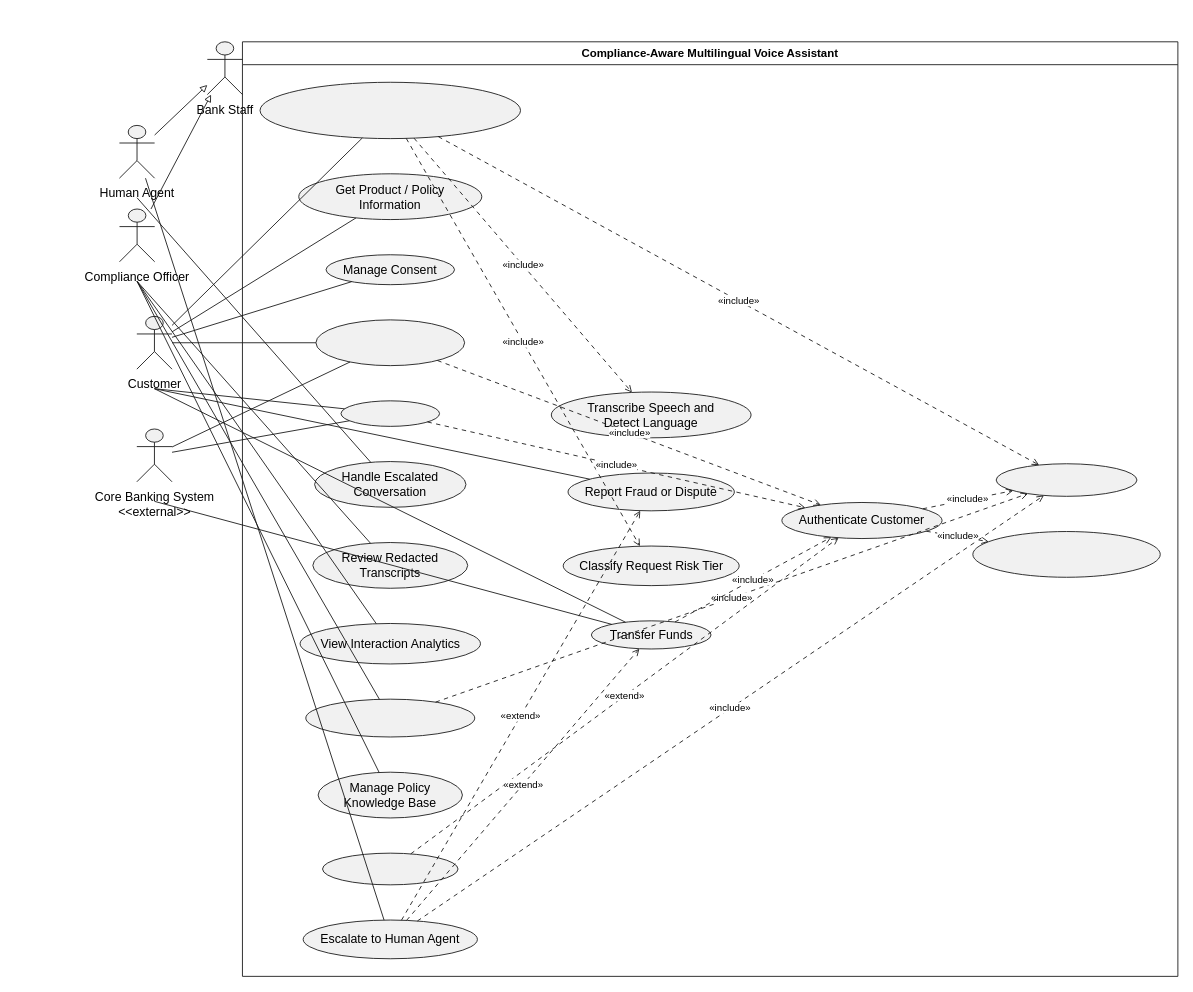
Some shapes in this 1193 by 992 pixel diagram are drawn without their labels. Each missing label, with the centre of its shape:
"Block Card" goes at point 390,413.
"Check Balance / Mini Statement" goes at point 390,342.
"Confirm with OTP" goes at point 390,868.
"Export Compliance Logs" goes at point 390,717.
"Place Voice Query in Preferred / Code-Mixed Language" goes at point 390,110.
"Record Audit Entry" goes at point 1066,479.
"Verify Speaker Voice with Spoof Check" goes at point 1066,554.
